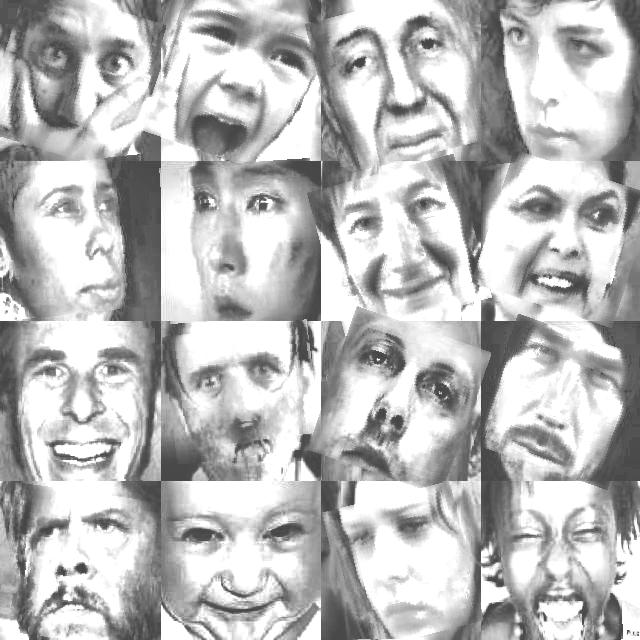angry: (480, 159, 640, 318), (483, 1, 640, 161), (482, 323, 640, 480), (0, 486, 154, 640), (165, 323, 318, 460)
fear: (150, 0, 327, 169), (0, 0, 156, 164), (162, 161, 318, 321)
happy: (316, 162, 484, 328), (1, 325, 154, 479), (490, 493, 640, 640), (171, 493, 317, 639)
neutral: (318, 315, 481, 487), (1, 157, 155, 317)
sad: (313, 0, 484, 166), (329, 488, 476, 640)
